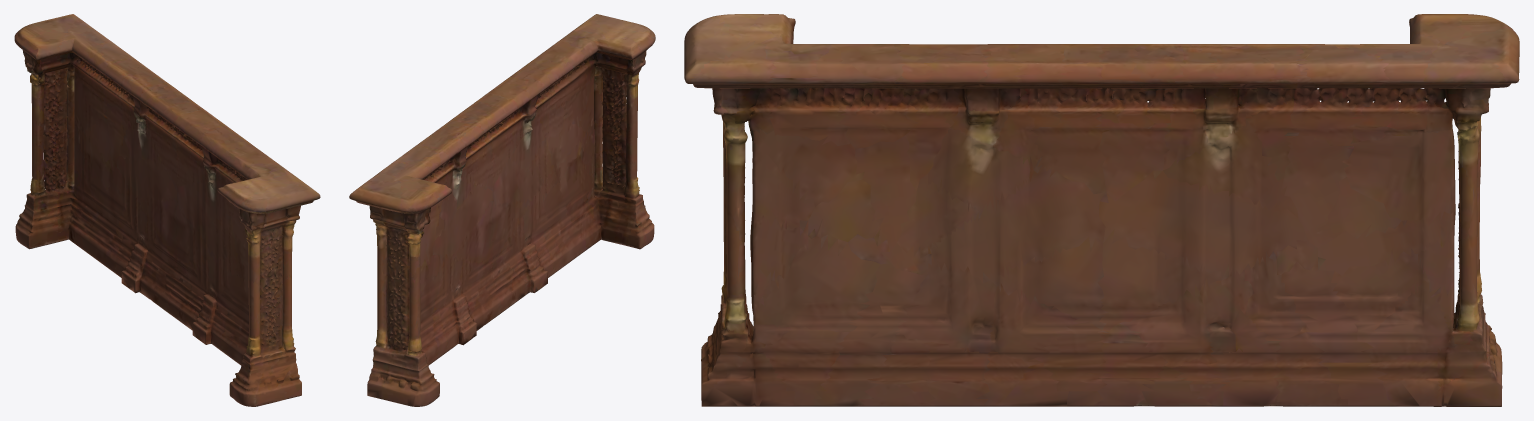
File: woodwall2.glb
The picture shows the model from 3 angles, left to right: view 1: azimuth 30°, elevation 25°; view 2: azimuth 150°, elevation 25°; view 3: azimuth 270°, elevation 25°; orthographic projection. The views are drawn at different scales.
Parts seen in each view (by area): view 1: Mesh_0.002; view 2: Mesh_0.002; view 3: Mesh_0.002.
Part boxes in pixels (box(x1,y1,x2,y2)): Mesh_0.002: box(14, 14, 320, 406); Mesh_0.002: box(349, 14, 655, 406); Mesh_0.002: box(684, 14, 1519, 406).
Size of the model in its own units: 0.3364 by 0.9262 by 2.
Materials: 1 (1 with a texture image).
